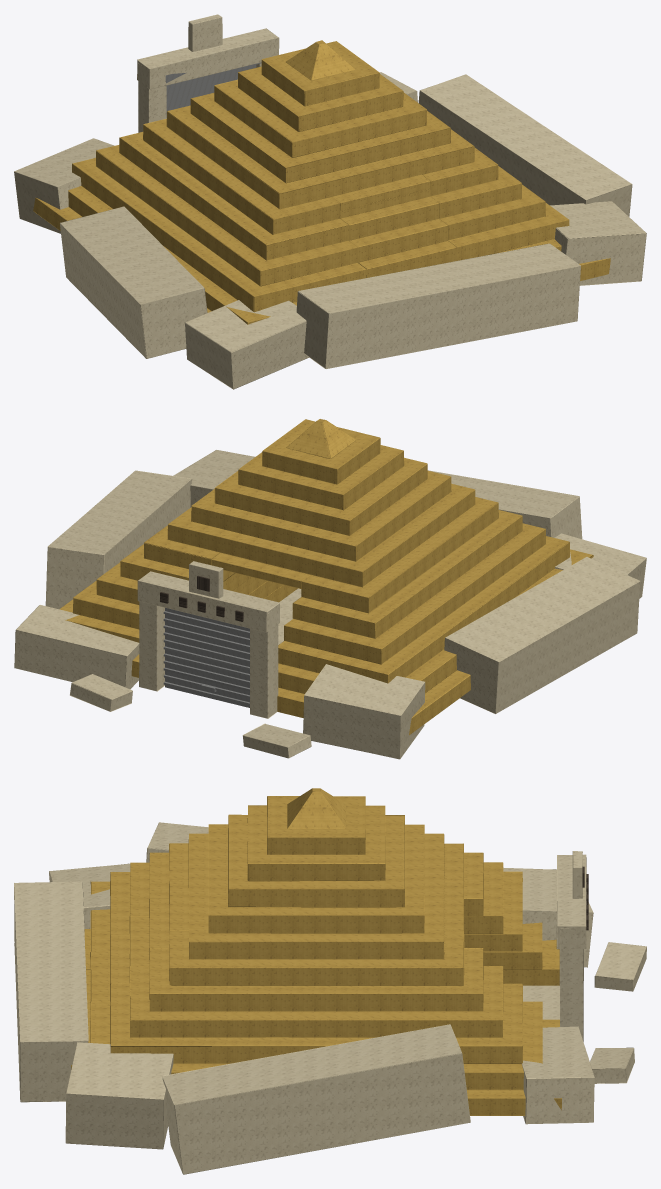
The model's file is buried_pyramid_garage.glb.
The picture shows the model from 3 angles, top to bottom: view 1: azimuth 30°, elevation 25°; view 2: azimuth 150°, elevation 25°; view 3: azimuth 270°, elevation 25°; orthographic projection. The views are drawn at different scales.
Visible parts, largest first — view 1: BuriedPyramidGarage, Door; view 2: BuriedPyramidGarage, Door; view 3: BuriedPyramidGarage.
Boxes of the visible parts, box(x1,y1,x2,y2) form: BuriedPyramidGarage: box(14, 14, 646, 389); Door: box(166, 64, 256, 118); BuriedPyramidGarage: box(14, 419, 646, 759); Door: box(163, 608, 249, 707); BuriedPyramidGarage: box(14, 788, 646, 1174).
Bounding box in the file's own units: 18.62 × 7.82 × 18.06.
4 materials, 4 textured.
